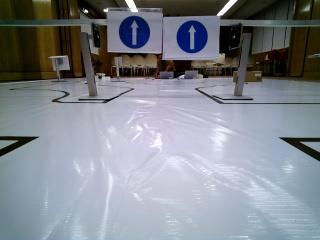straight: (109, 9, 162, 53), (166, 19, 219, 59)
